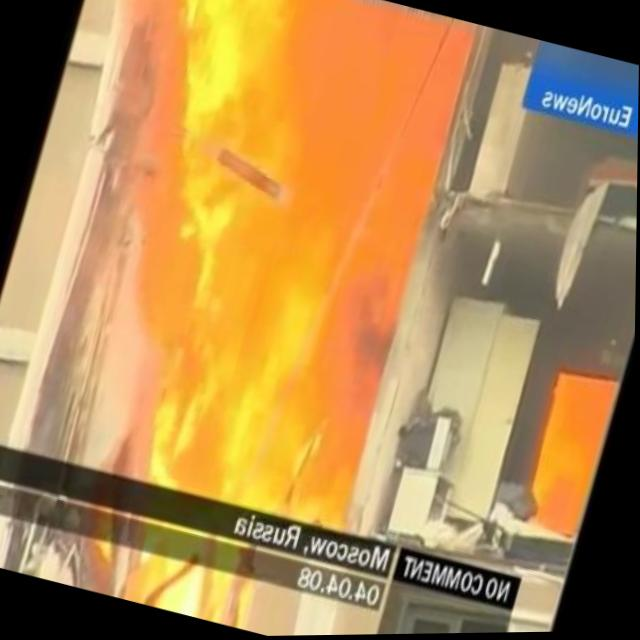fire: (0, 0, 480, 536), (519, 363, 623, 544)
